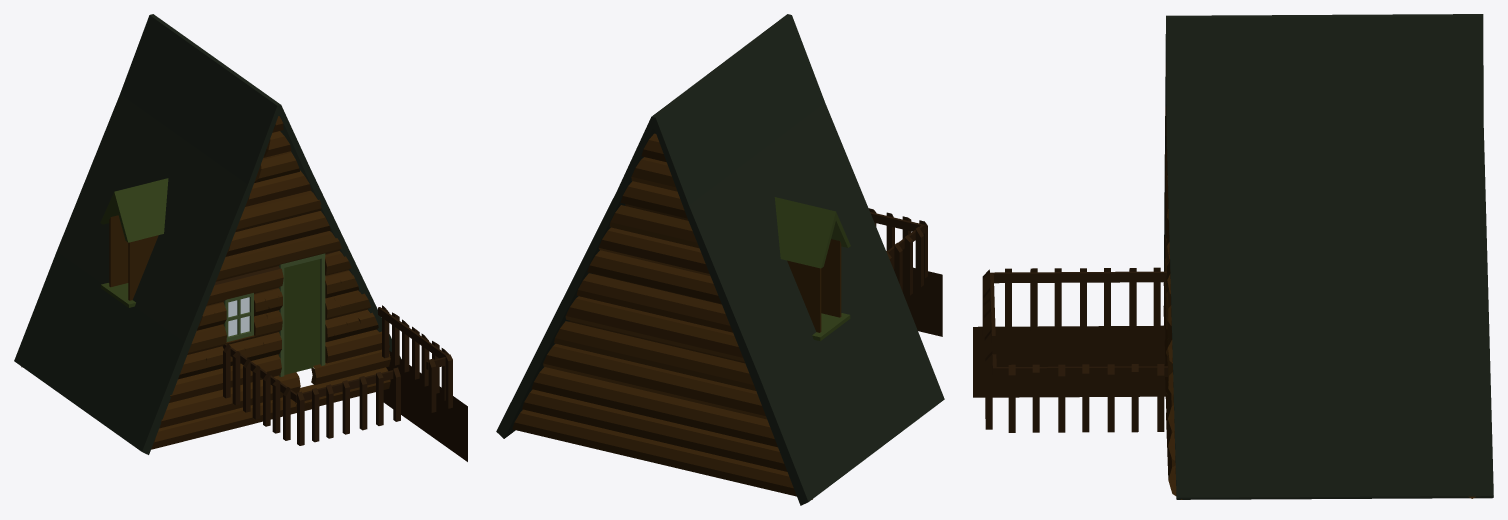
Rendered from Casa03.gltf.
3 views of the same model, side by side, from view 1: azimuth 30°, elevation 25°; view 2: azimuth 150°, elevation 25°; view 3: azimuth 270°, elevation 25° (orthographic). The views are drawn at different scales.
Visible parts, largest first — view 1: Cabana Verde 01.002; view 2: Cabana Verde 01.002; view 3: Cabana Verde 01.002.
Part boxes in pixels (x1=…): Cabana Verde 01.002: x1=14, y1=14, x2=467, y2=461; Cabana Verde 01.002: x1=496, y1=14, x2=944, y2=505; Cabana Verde 01.002: x1=973, y1=14, x2=1493, y2=499.
Bounding box in the file's own units: 1.62 × 1.84 × 2.07.
